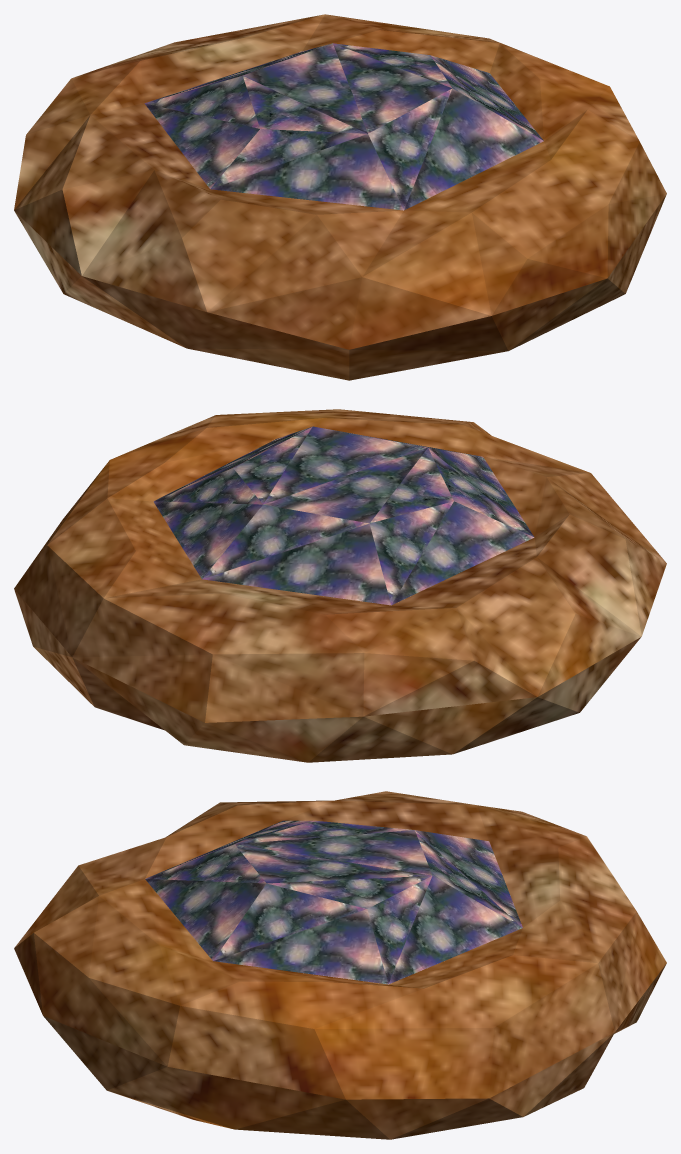
File: ITFO_SWEETBUN.glb
3 renders of one model, top to bottom at view 1: azimuth 30°, elevation 25°; view 2: azimuth 150°, elevation 25°; view 3: azimuth 270°, elevation 25°, orthographic. The views are drawn at different scales.
Parts seen in each view (by area): view 1: ITFO_SWEETBUN; view 2: ITFO_SWEETBUN; view 3: ITFO_SWEETBUN.
Part boxes in pixels (bbox=[...]): ITFO_SWEETBUN: bbox=[14, 14, 666, 380]; ITFO_SWEETBUN: bbox=[14, 409, 666, 762]; ITFO_SWEETBUN: bbox=[14, 791, 666, 1139].
Bounding box in the file's own units: 0.2238 × 0.075 × 0.2291.
2 materials, 2 textured.
